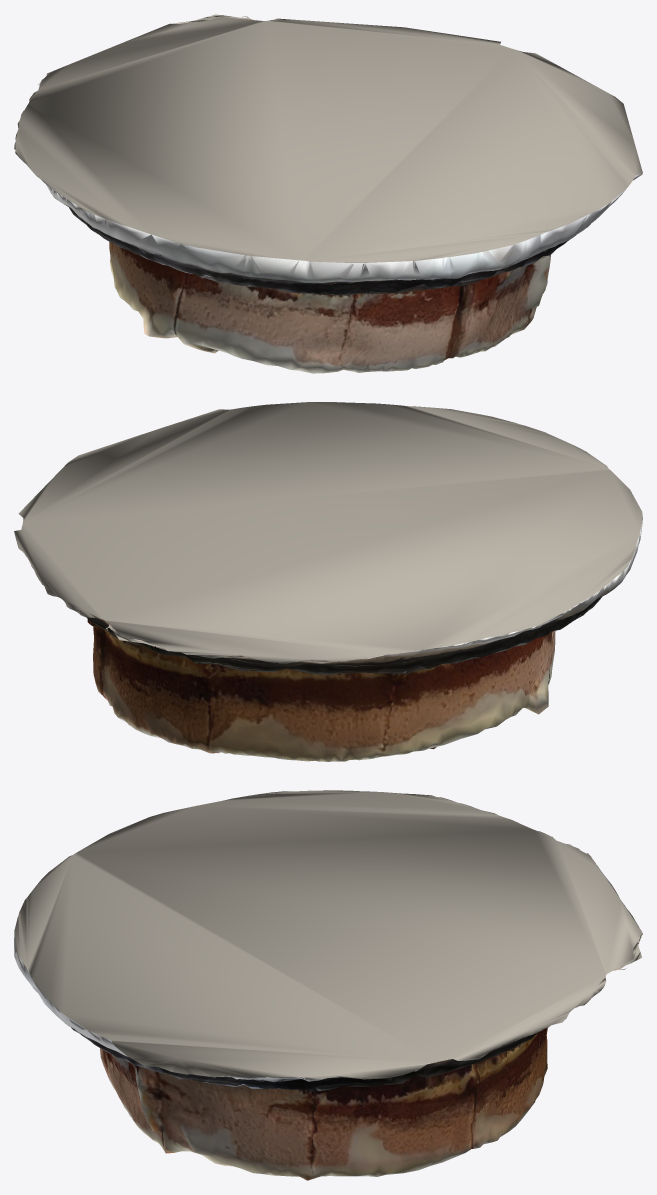
File: cake_9644.obj
3 views of the same model, one above another, from view 1: azimuth 30°, elevation 25°; view 2: azimuth 150°, elevation 25°; view 3: azimuth 270°, elevation 25° (orthographic). The views are drawn at different scales.
Bounding box in the file's own units: 0.1761 × 0.0566 × 0.1767.
Materials: 1 (1 with a texture image).
